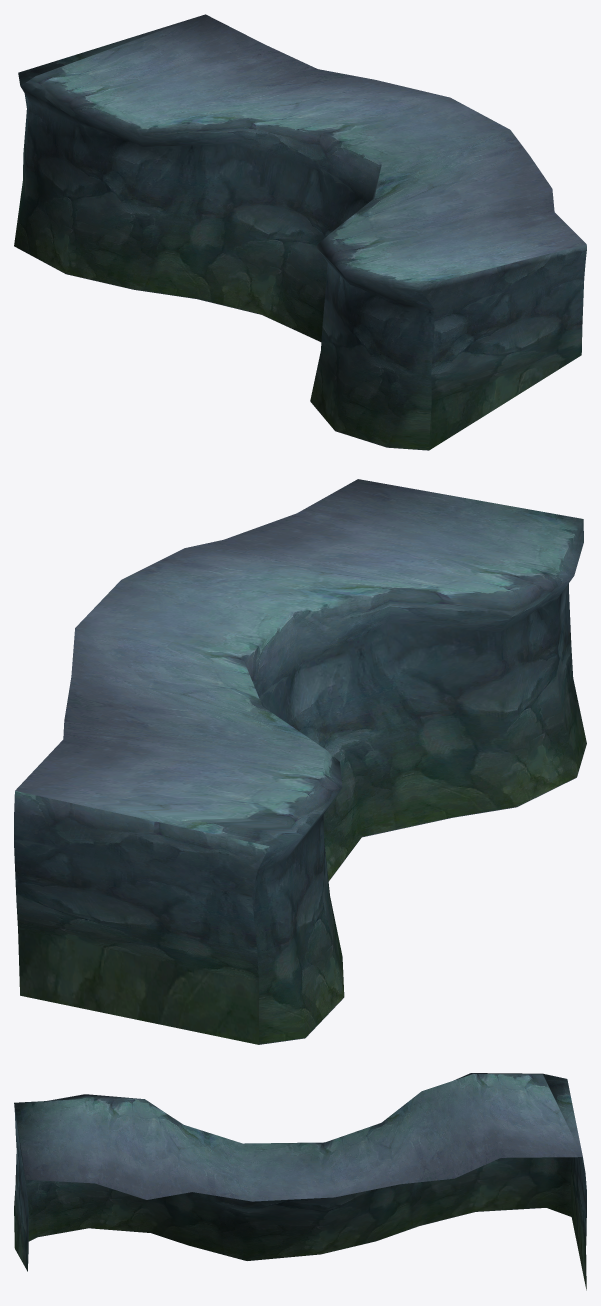
Rendered from environment_stone_seahaidi_002_d.FBX.
3 renders of one model, top to bottom at view 1: azimuth 30°, elevation 25°; view 2: azimuth 150°, elevation 25°; view 3: azimuth 270°, elevation 25°, orthographic. The views are drawn at different scales.
Parts seen in each view (by area): view 1: environment_stone_seahaidi_002_d; view 2: environment_stone_seahaidi_002_d; view 3: environment_stone_seahaidi_002_d.
Boxes of the visible parts, box(x1,y1,x2,y2) form: environment_stone_seahaidi_002_d: box(14, 14, 586, 450); environment_stone_seahaidi_002_d: box(14, 479, 586, 1044); environment_stone_seahaidi_002_d: box(14, 1073, 586, 1290).
Size of the model in its own units: 1504 by 769 by 2733.
Materials: 1 (1 with a texture image).
